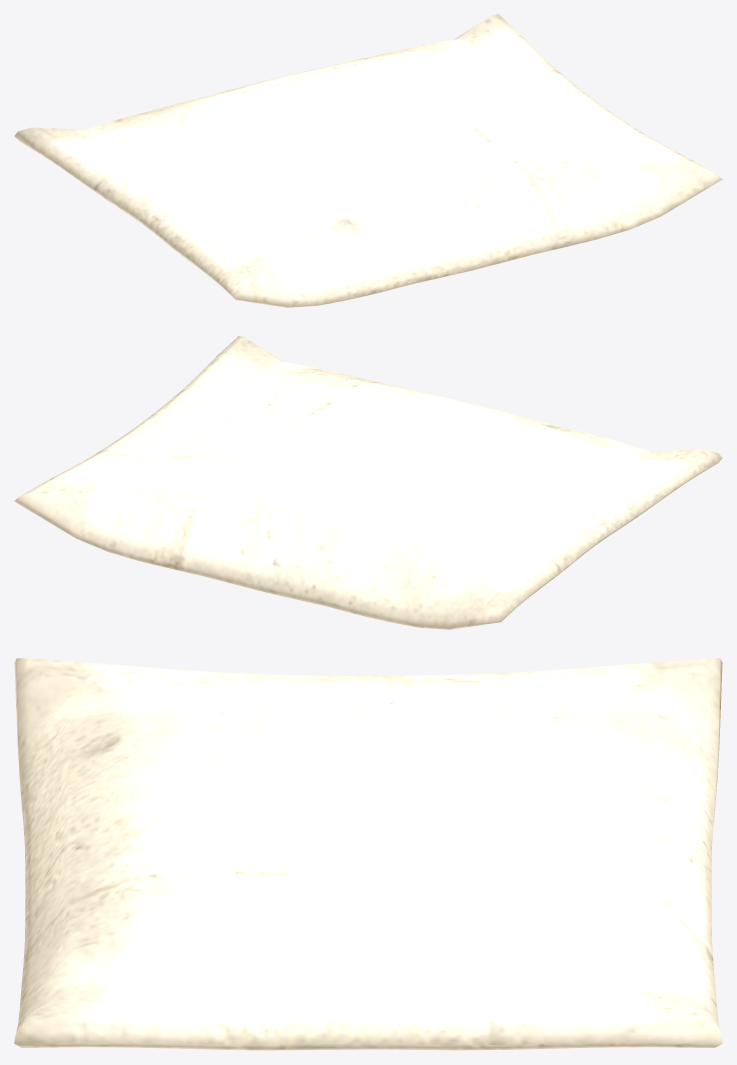
Rendered from SM_OPR_Gauze.fbx.
3 views of the same model, one above another, from view 1: azimuth 30°, elevation 25°; view 2: azimuth 150°, elevation 25°; view 3: azimuth 270°, elevation 25° (orthographic). The views are drawn at different scales.
Visible parts, largest first — view 1: SM_OPR_Gauze_LOD0; view 2: SM_OPR_Gauze_LOD0; view 3: SM_OPR_Gauze_LOD0.
Boxes of the visible parts, left/top/right/bottom form: SM_OPR_Gauze_LOD0: left=14, top=14, right=722, bottom=307; SM_OPR_Gauze_LOD0: left=14, top=336, right=722, bottom=629; SM_OPR_Gauze_LOD0: left=14, top=658, right=722, bottom=1050.
Bounding box in the file's own units: 14.42 × 11.35 × 1.96.
Materials: 2 (2 with a texture image).
